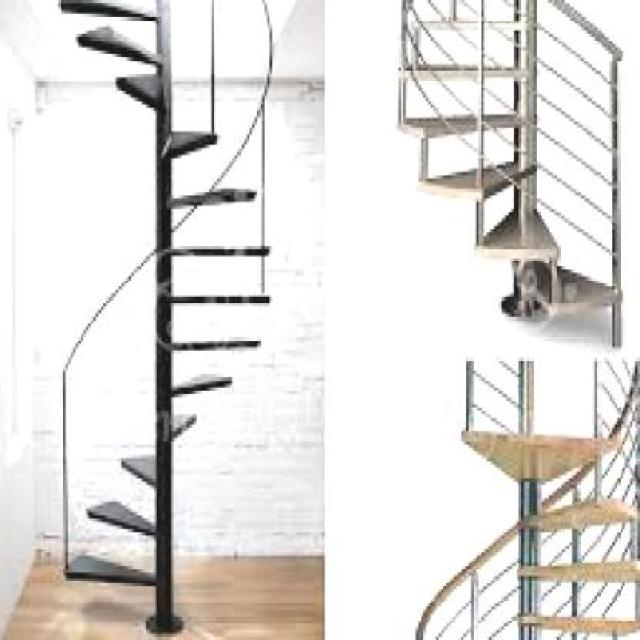stair: (35, 0, 282, 611), (358, 0, 630, 337)
